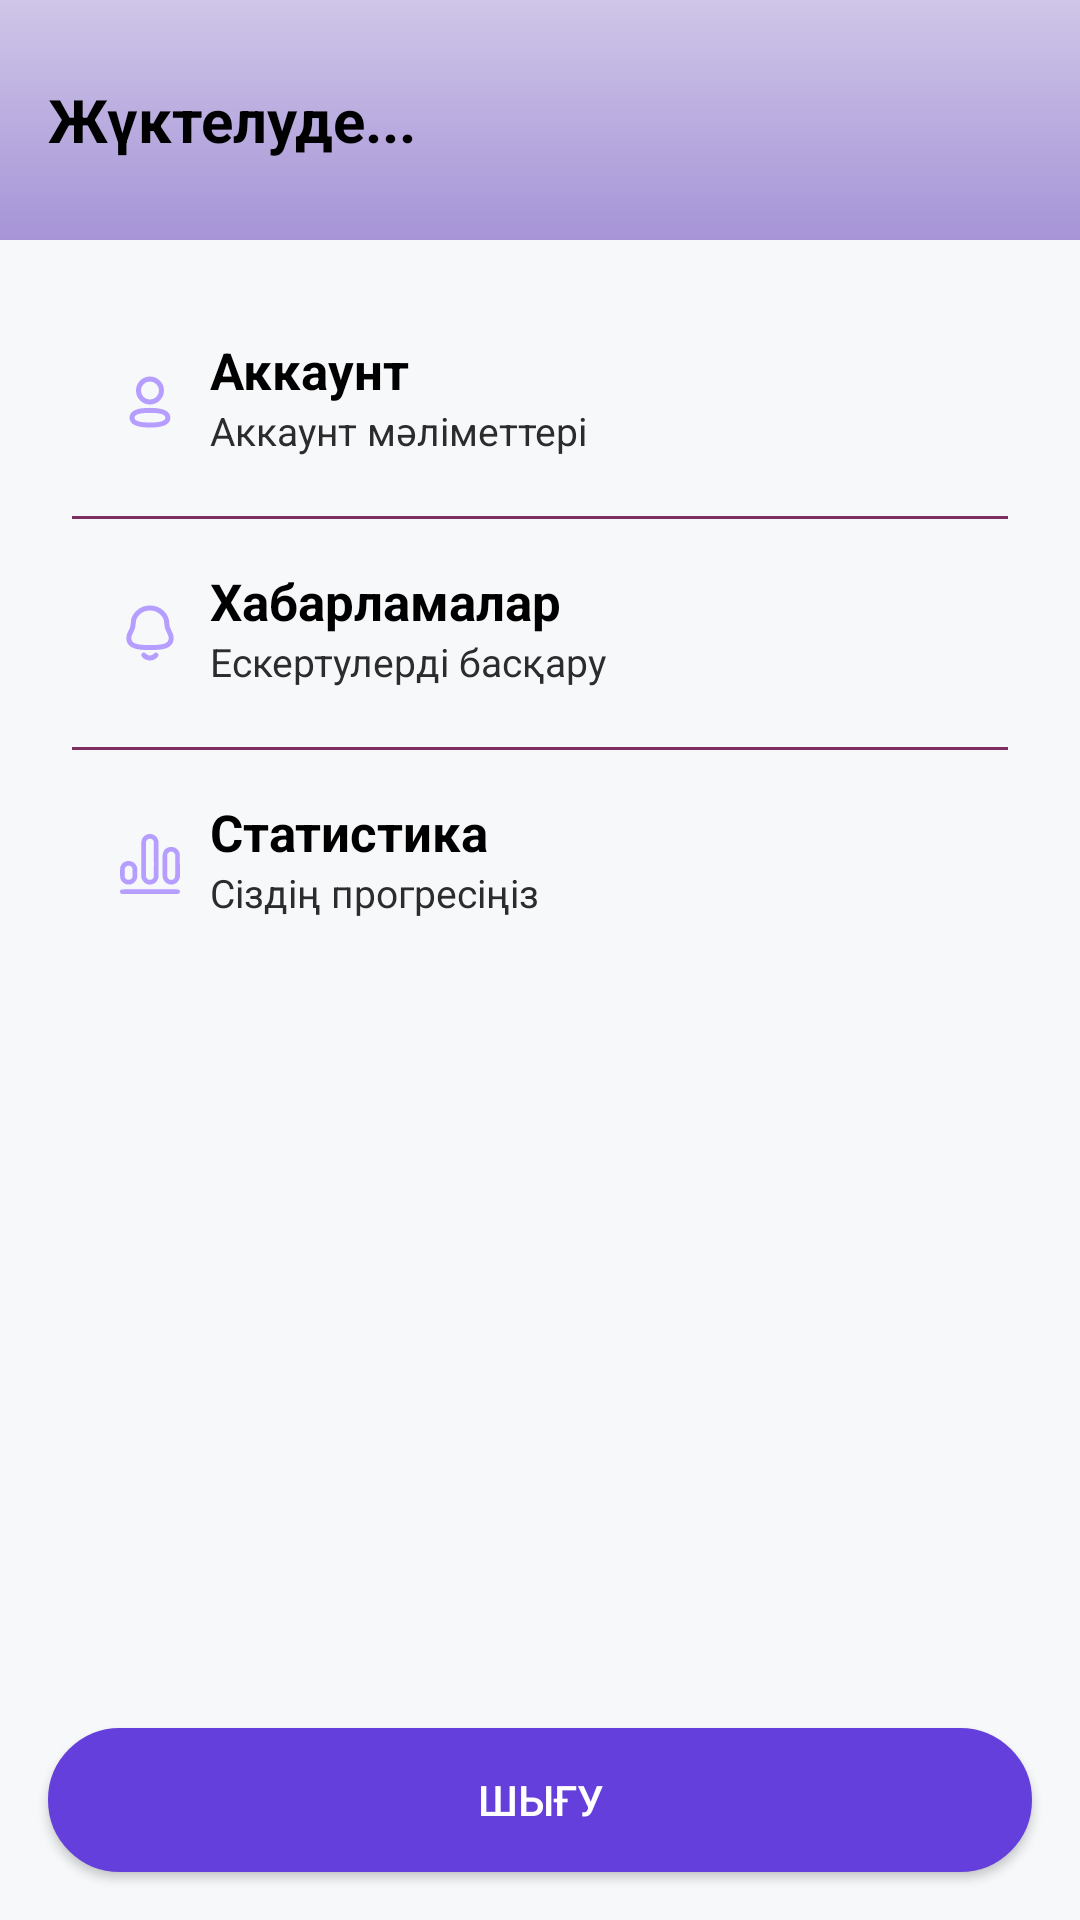

Icon click points for this 1080*1920 phone screenshot, format (x=x, y=y):
notification: (x=150, y=633)
profile: (x=149, y=402)
statistics: (x=150, y=864)
